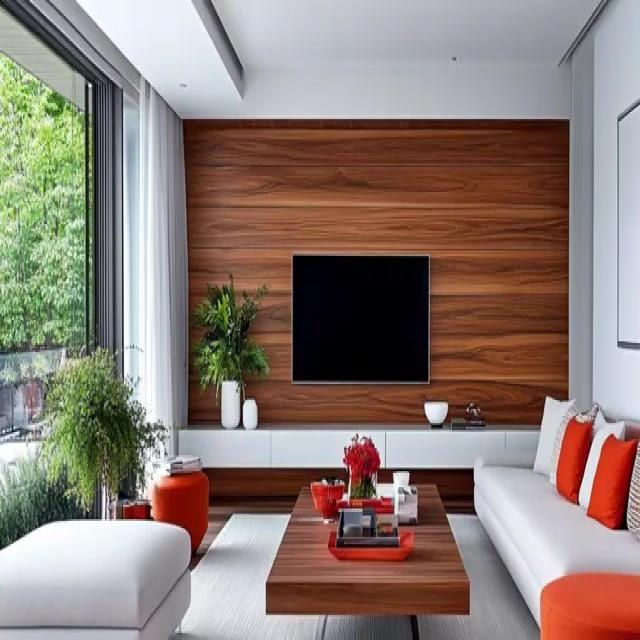obstacle: (472, 407, 639, 635), (265, 480, 470, 638)
